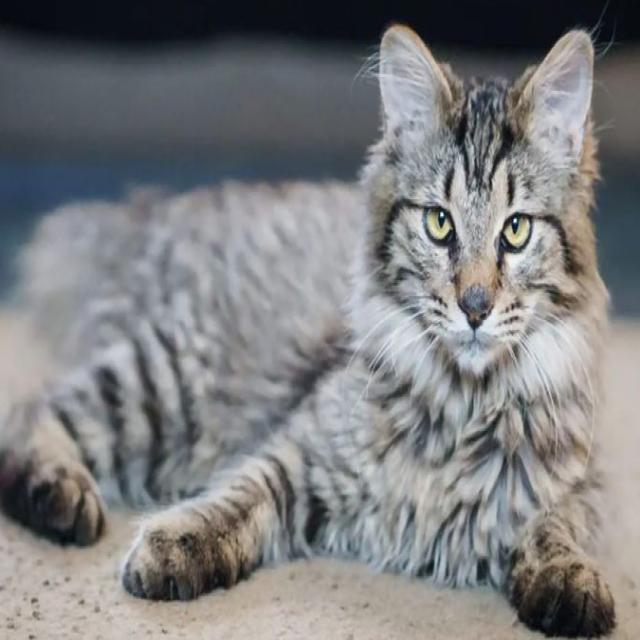American Bobtail: (0, 18, 618, 640)
